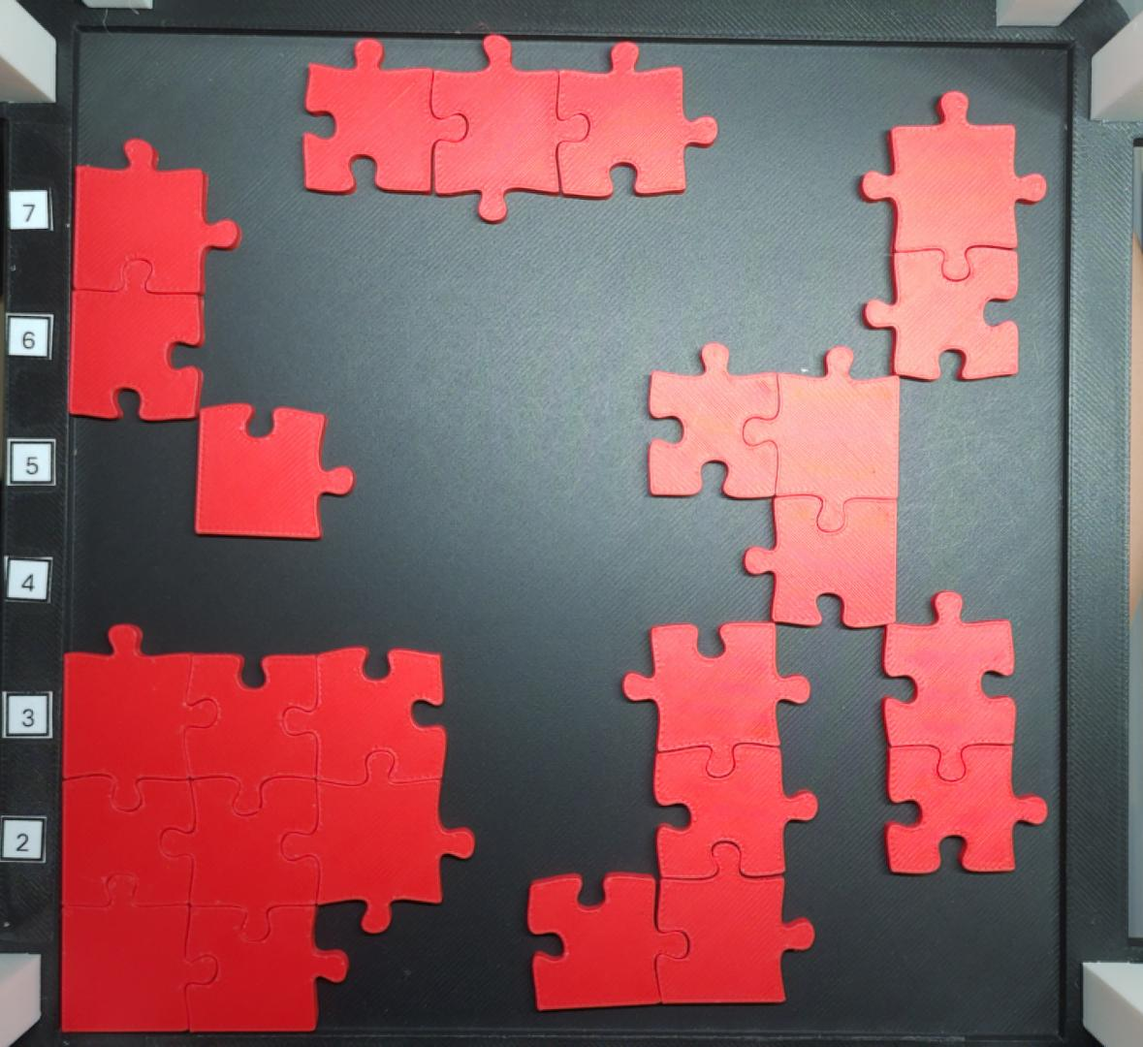p_1: (193, 403, 357, 540)
p_2: (860, 91, 1046, 384), (880, 587, 1049, 873), (71, 138, 240, 421)
p_3: (302, 34, 720, 223), (648, 344, 898, 629)
p_4: (525, 621, 818, 1008)
p_m: (62, 624, 474, 1032)
